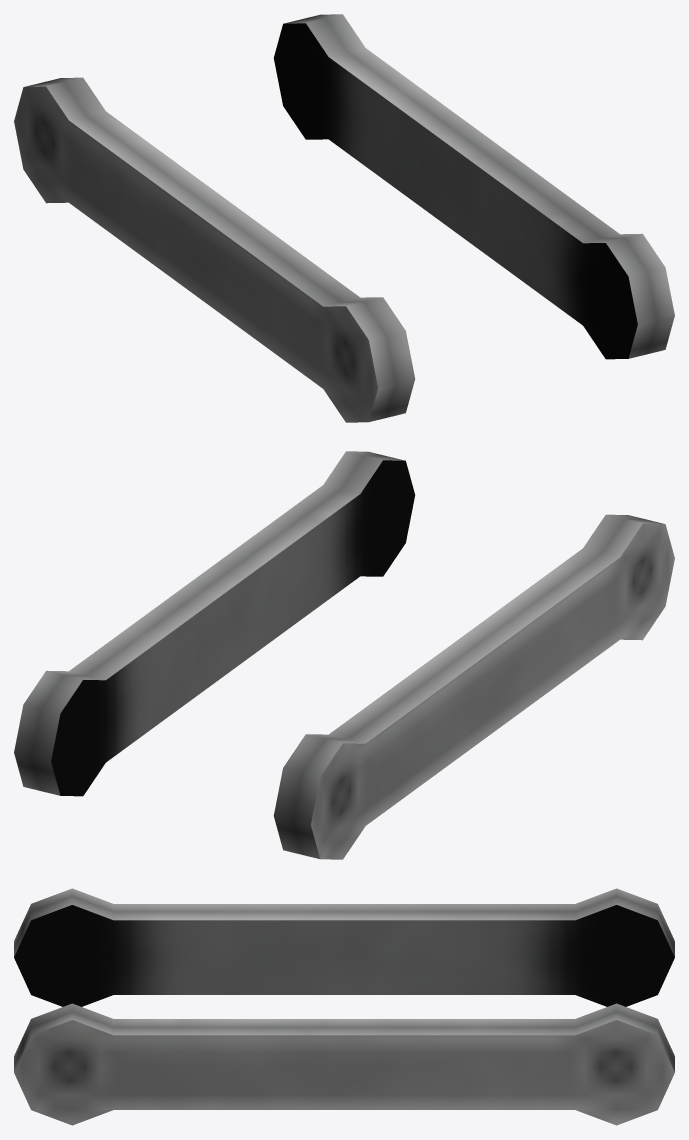
The model's file is lrarm.obj.
3 renders of one model, top to bottom at view 1: azimuth 30°, elevation 25°; view 2: azimuth 150°, elevation 25°; view 3: azimuth 270°, elevation 25°, orthographic. The views are drawn at different scales.
Visible parts, largest first — view 1: 1; view 2: 1; view 3: 1.
Part boxes in pixels (x1=…): 1: x1=14, y1=14, x2=674, y2=422; 1: x1=14, y1=451, x2=674, y2=859; 1: x1=14, y1=888, x2=674, y2=1125.
Size of the model in its own units: 0.1 by 0.0375 by 0.2125.
Materials: 1 (1 with a texture image).
